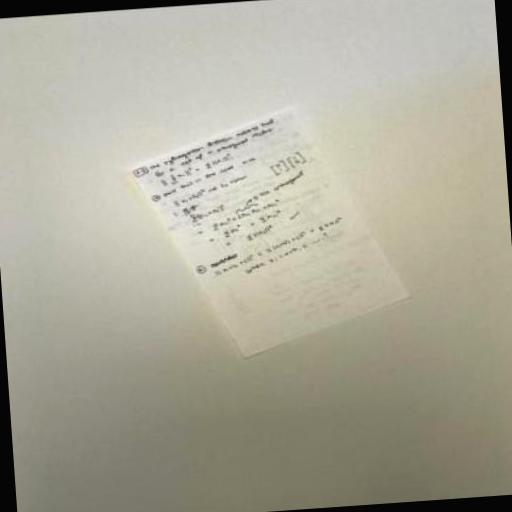paper: (121, 97, 416, 364)
